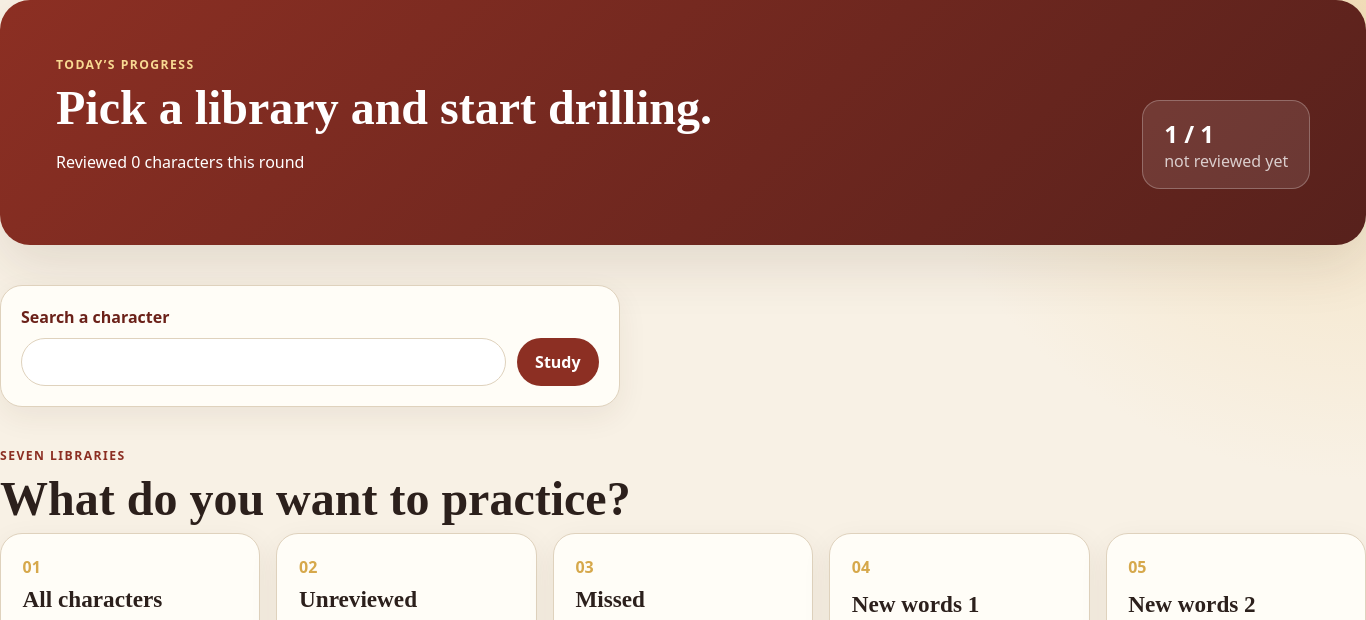
it: explains when a character has no flash card
Type "龘" into the field labelled "Search a character".
click(264, 362); type("龘")  # box [21, 338, 506, 386]
Then press Enter
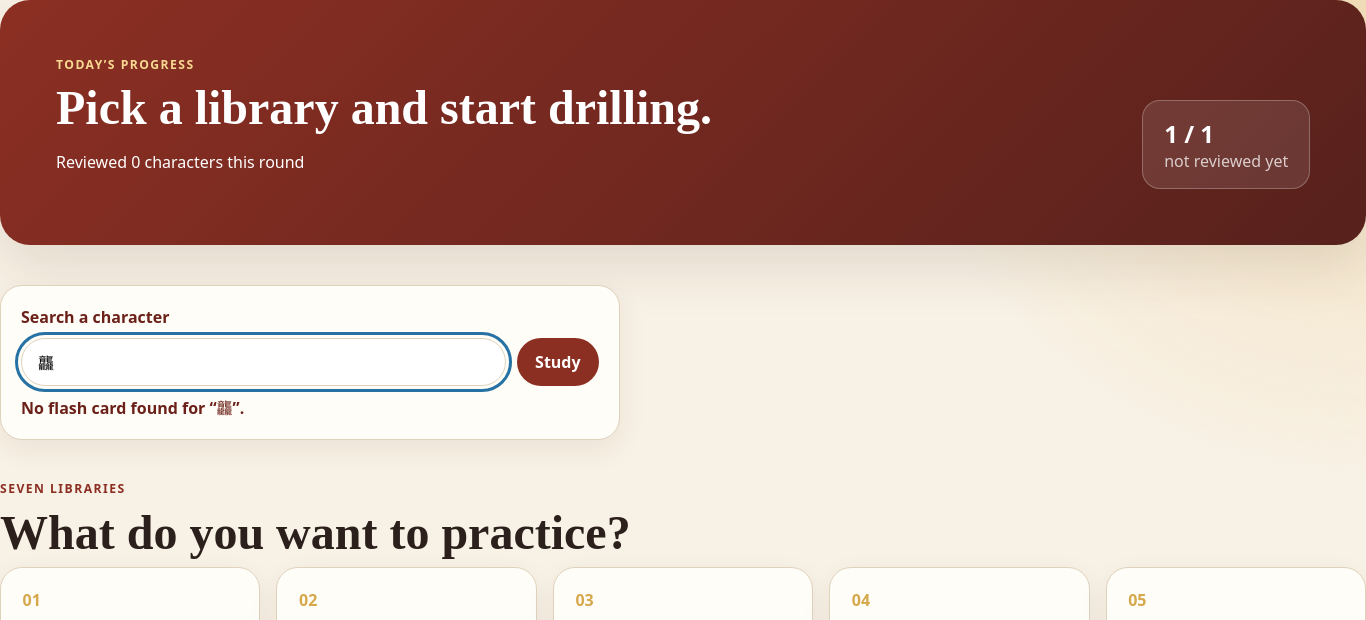
Expected: the message reads "No flash card found for “龘”.", [21, 397, 244, 419]
